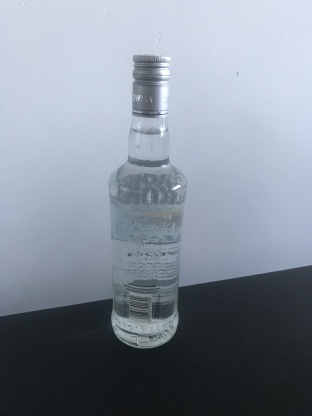nakretka: (130, 52, 171, 119)
